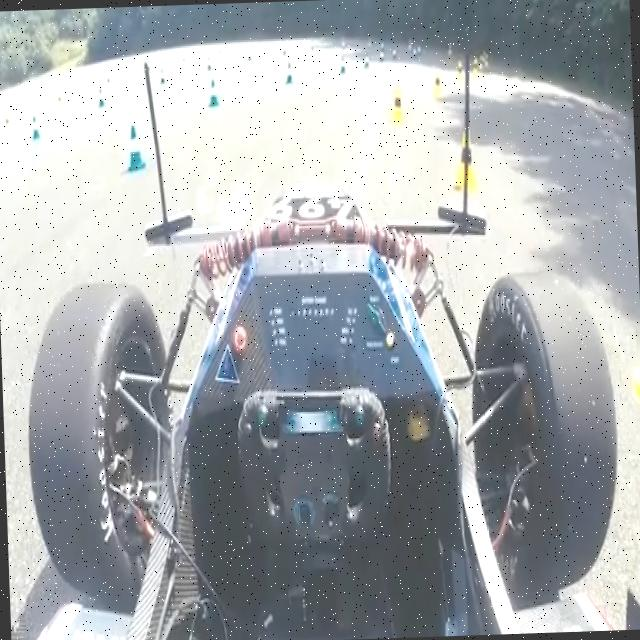blue_cone: (121, 119, 150, 171), (204, 75, 223, 111), (334, 46, 350, 82), (282, 58, 298, 92), (378, 38, 398, 64), (362, 49, 373, 72)
yellow_cone: (452, 128, 482, 190), (390, 81, 410, 126), (636, 310, 640, 413), (432, 71, 446, 96), (454, 54, 467, 76)
